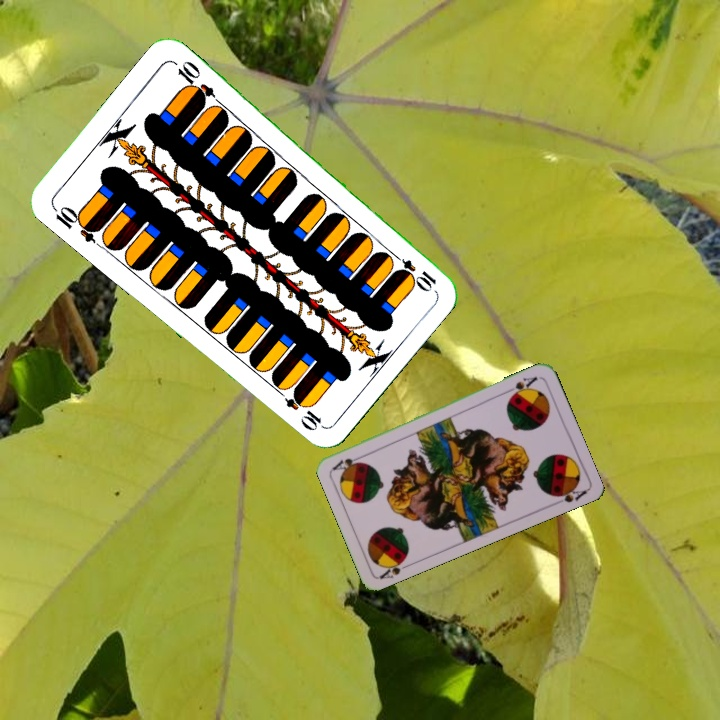E10: (49, 202, 104, 246), (388, 248, 439, 292)
SA: (375, 552, 415, 582), (502, 373, 540, 400)
